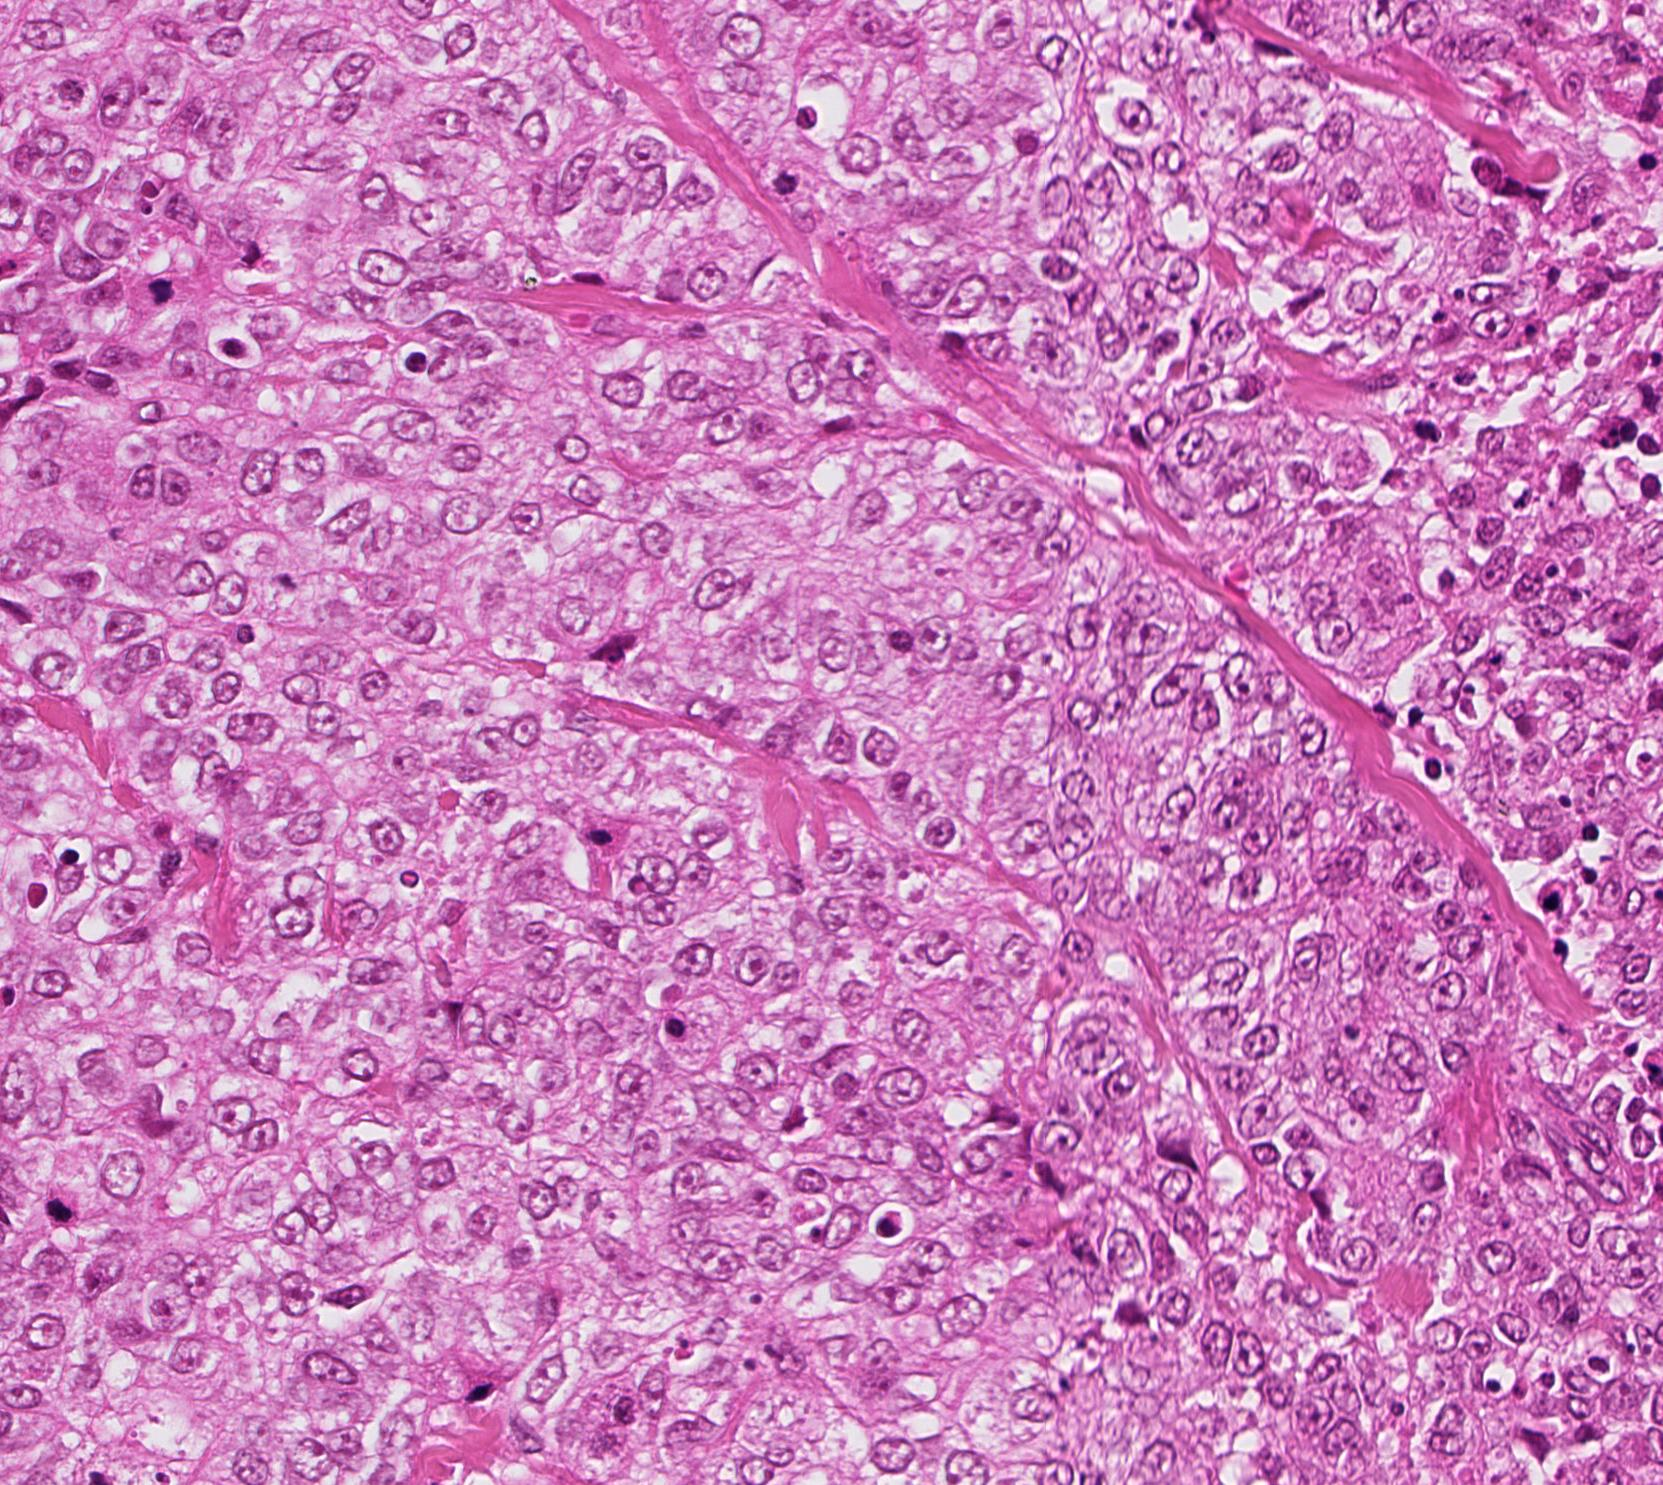mitosis: (757, 148, 817, 208)
